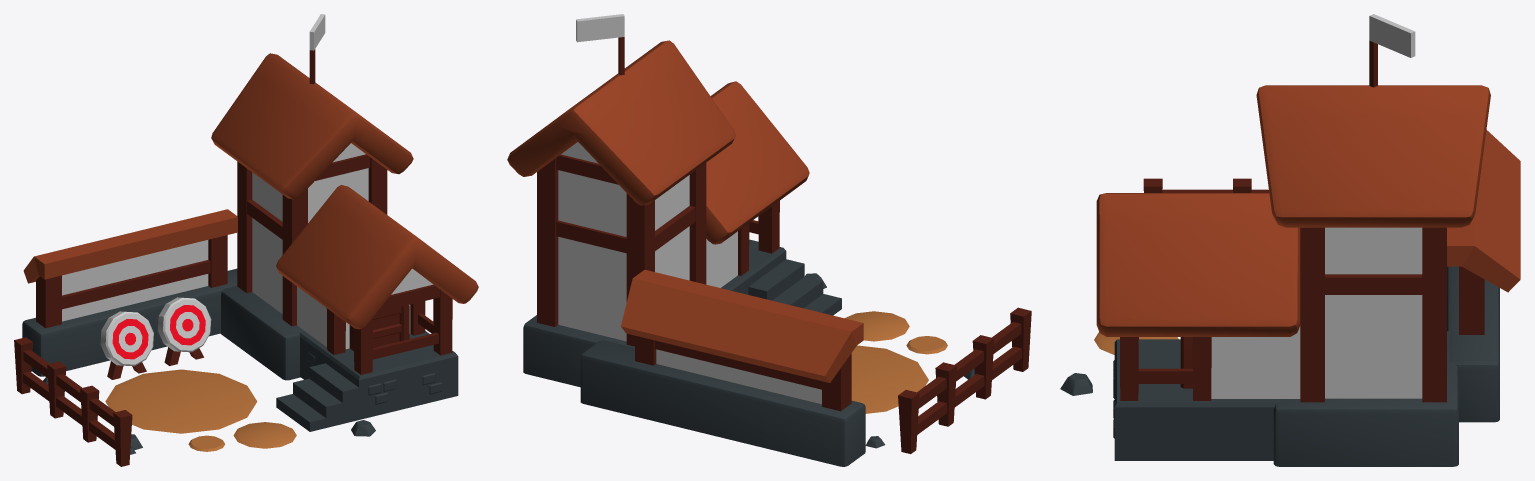
File: archeryrange.obj
3 renders of one model, left to right at view 1: azimuth 30°, elevation 25°; view 2: azimuth 150°, elevation 25°; view 3: azimuth 270°, elevation 25°, orthographic. The views are drawn at different scales.
Parts seen in each view (by area): view 1: archeryrange_Cube.404; view 2: archeryrange_Cube.404; view 3: archeryrange_Cube.404.
Part boxes in pixels (x1=…): archeryrange_Cube.404: x1=14, y1=14, x2=478, y2=466; archeryrange_Cube.404: x1=507, y1=14, x2=1031, y2=466; archeryrange_Cube.404: x1=1060, y1=14, x2=1520, y2=466.
Size of the model in its own units: 1.8 by 1.54 by 1.55.
